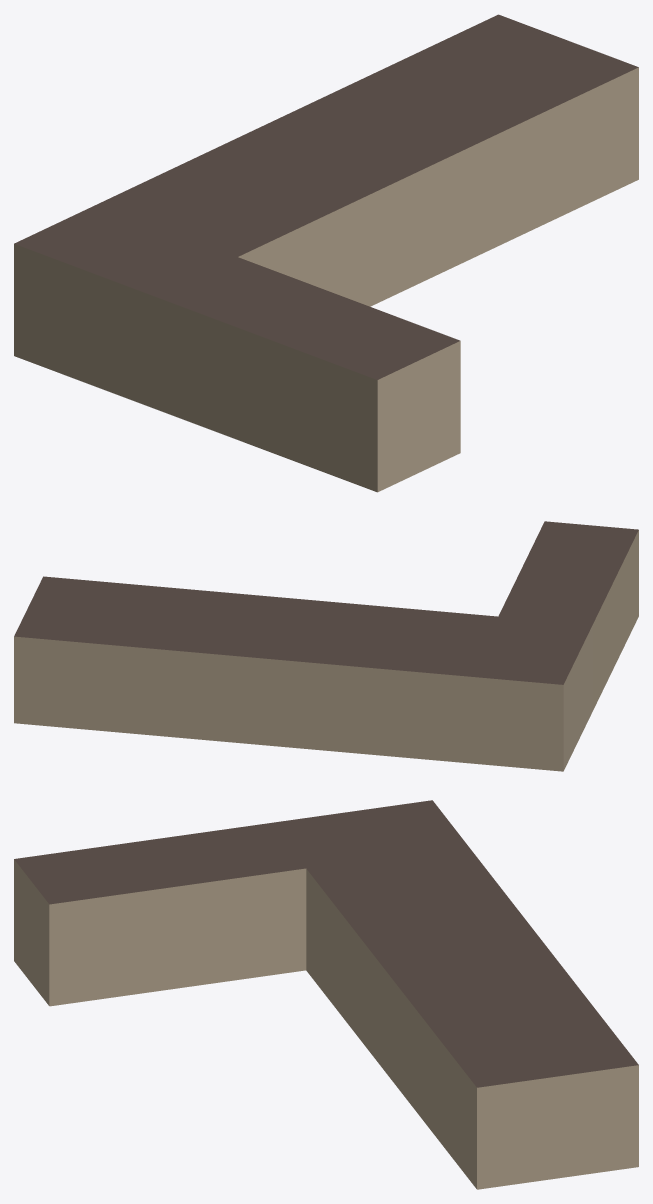
The picture shows the model from 3 angles, top to bottom: view 1: azimuth 30°, elevation 25°; view 2: azimuth 150°, elevation 25°; view 3: azimuth 270°, elevation 25°; orthographic projection. The views are drawn at different scales.
Visible parts, largest first — view 1: HP-w859457462; view 2: HP-w859457462; view 3: HP-w859457462.
Part boxes in pixels (box(x1,y1,x2,y2)): HP-w859457462: box(14, 14, 638, 492); HP-w859457462: box(14, 521, 638, 771); HP-w859457462: box(14, 800, 638, 1189).
Bounding box in the file's own units: 54.44 × 9 × 49.99.
